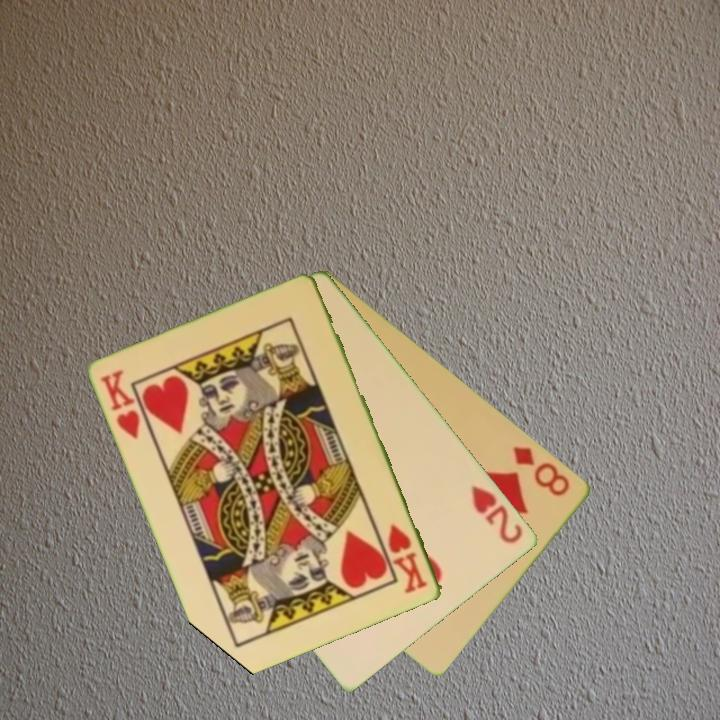2h: (468, 482, 526, 547)
8d: (510, 442, 574, 500)
Kh: (97, 366, 144, 442), (385, 520, 431, 597)
